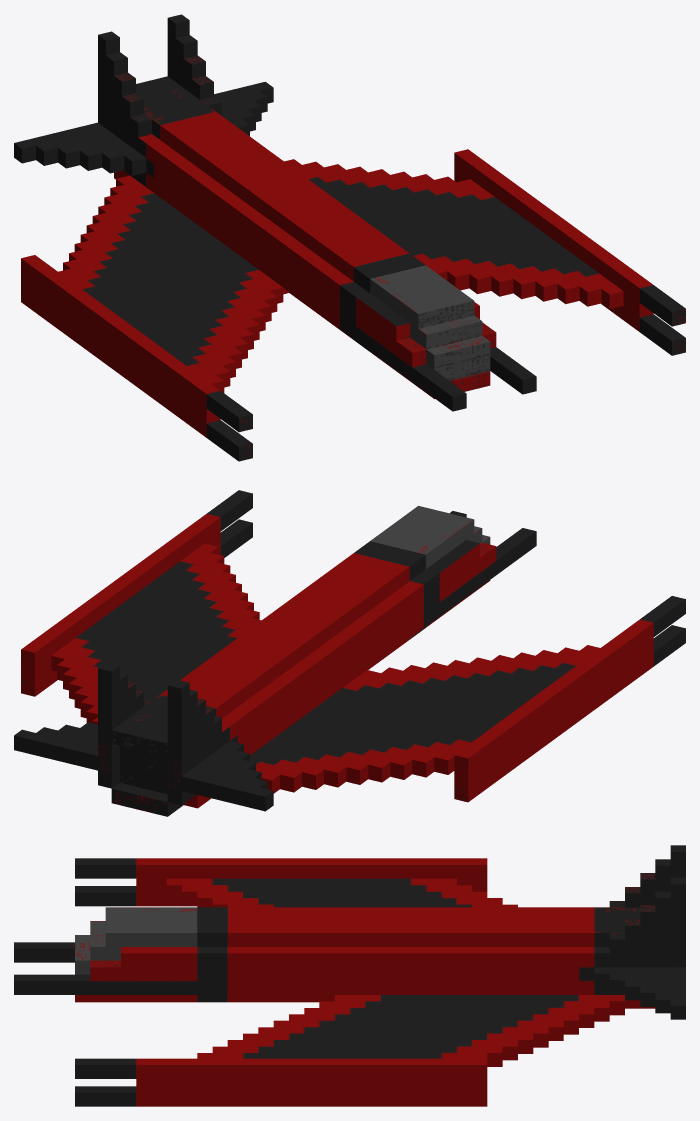
Rendered from SpaceShip Model_06.fbx.
The picture shows the model from 3 angles, top to bottom: view 1: azimuth 30°, elevation 25°; view 2: azimuth 150°, elevation 25°; view 3: azimuth 270°, elevation 25°; orthographic projection. The views are drawn at different scales.
Visible parts, largest first — view 1: SpaceShip_Model_06; view 2: SpaceShip_Model_06; view 3: SpaceShip_Model_06.
Part boxes in pixels (left/top/right/bottom): SpaceShip_Model_06: left=14, top=14, right=685, bottom=461; SpaceShip_Model_06: left=14, top=490, right=685, bottom=816; SpaceShip_Model_06: left=14, top=845, right=685, bottom=1106.
Size of the model in its own units: 320 by 100 by 440.
Materials: 1 (1 with a texture image).
